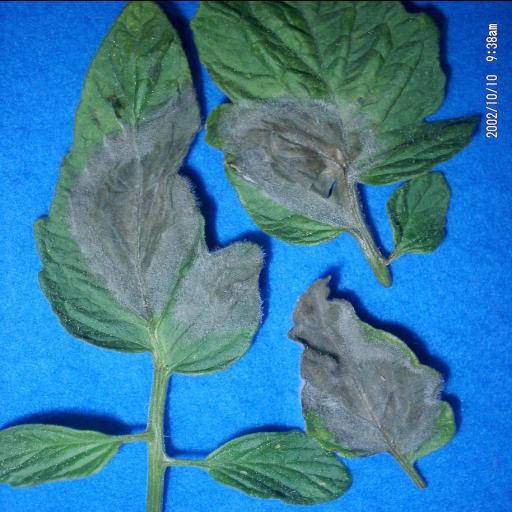Healthy: (206, 430, 357, 502), (0, 422, 122, 486), (382, 168, 454, 254)
Late Blight: (34, 0, 274, 374), (206, 0, 487, 248), (285, 270, 459, 460)
